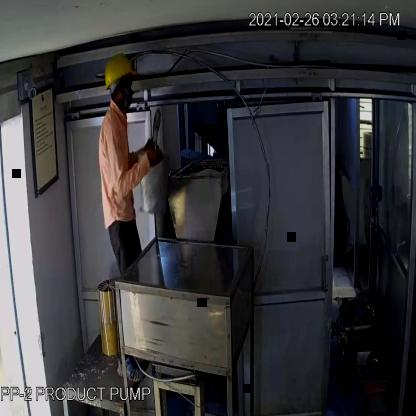helmet: (99, 52, 141, 96)
